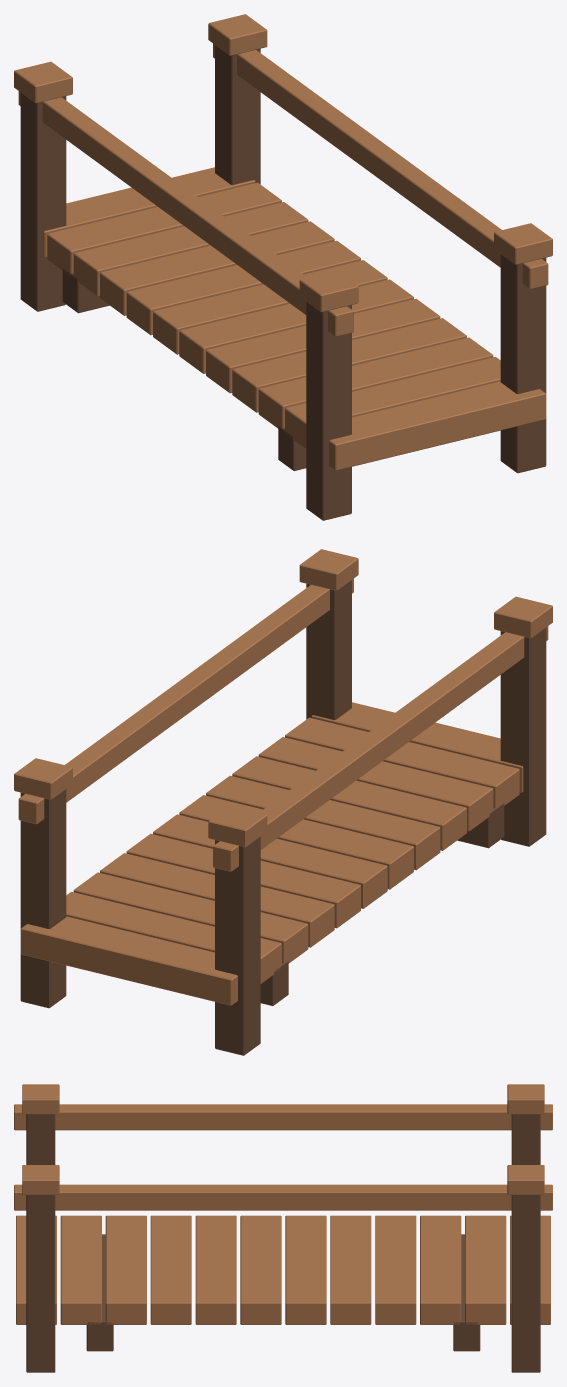
File: wood_bridge_medium_01.glb
3 renders of one model, top to bottom at view 1: azimuth 30°, elevation 25°; view 2: azimuth 150°, elevation 25°; view 3: azimuth 270°, elevation 25°, orthographic. The views are drawn at different scales.
Parts seen in each view (by area): view 1: wood_bridge_medium_01; view 2: wood_bridge_medium_01; view 3: wood_bridge_medium_01.
Boxes of the visible parts, left/top/right/bottom form: wood_bridge_medium_01: left=14, top=14, right=552, bottom=520; wood_bridge_medium_01: left=14, top=549, right=552, bottom=1055; wood_bridge_medium_01: left=14, top=1084, right=552, bottom=1372.
Bounding box in the file's own units: 1.1 × 1.03 × 2.6.
